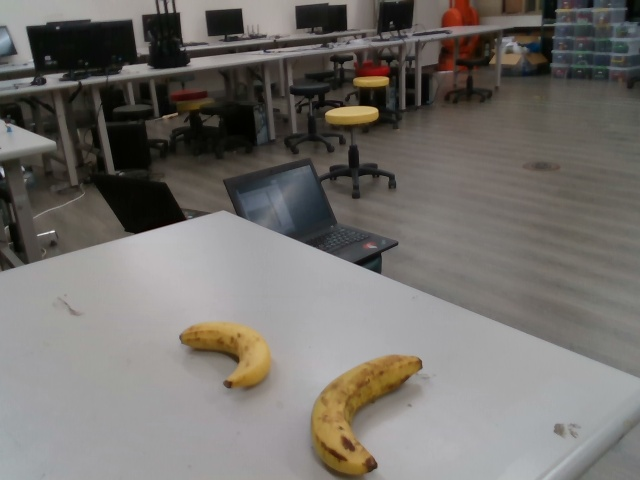banana: (307, 353, 424, 477), (178, 318, 274, 390)
